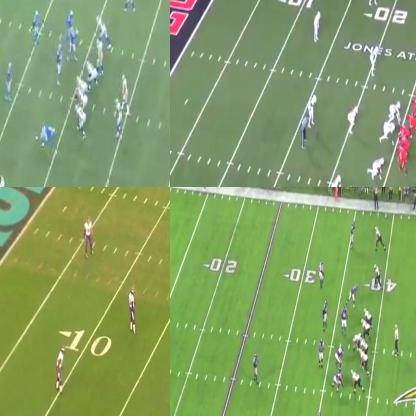CENTER: (75, 78, 87, 97), (398, 120, 411, 136), (353, 334, 357, 346)
DB: (54, 347, 64, 388), (84, 214, 93, 251), (128, 291, 136, 332), (310, 95, 318, 125), (313, 11, 321, 40), (252, 352, 259, 384), (319, 260, 326, 288), (351, 224, 356, 250), (333, 175, 343, 186), (371, 0, 381, 5)
LB: (6, 62, 14, 100), (32, 11, 40, 46), (348, 105, 357, 132), (370, 48, 378, 76), (323, 302, 327, 330), (320, 340, 324, 366)
QB: (122, 76, 130, 113), (392, 323, 400, 354)
SKILL: (113, 98, 124, 131), (96, 15, 108, 42), (351, 368, 363, 392), (374, 225, 383, 250), (125, 0, 137, 12), (375, 266, 380, 284)
